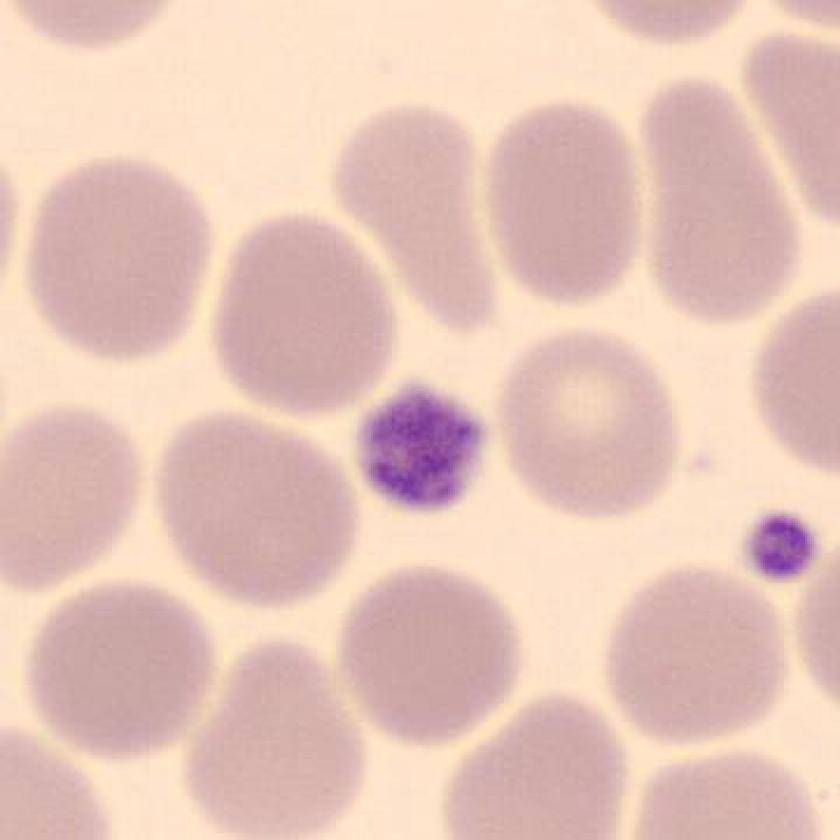platelets: (340, 369, 501, 529), (734, 499, 825, 598)
